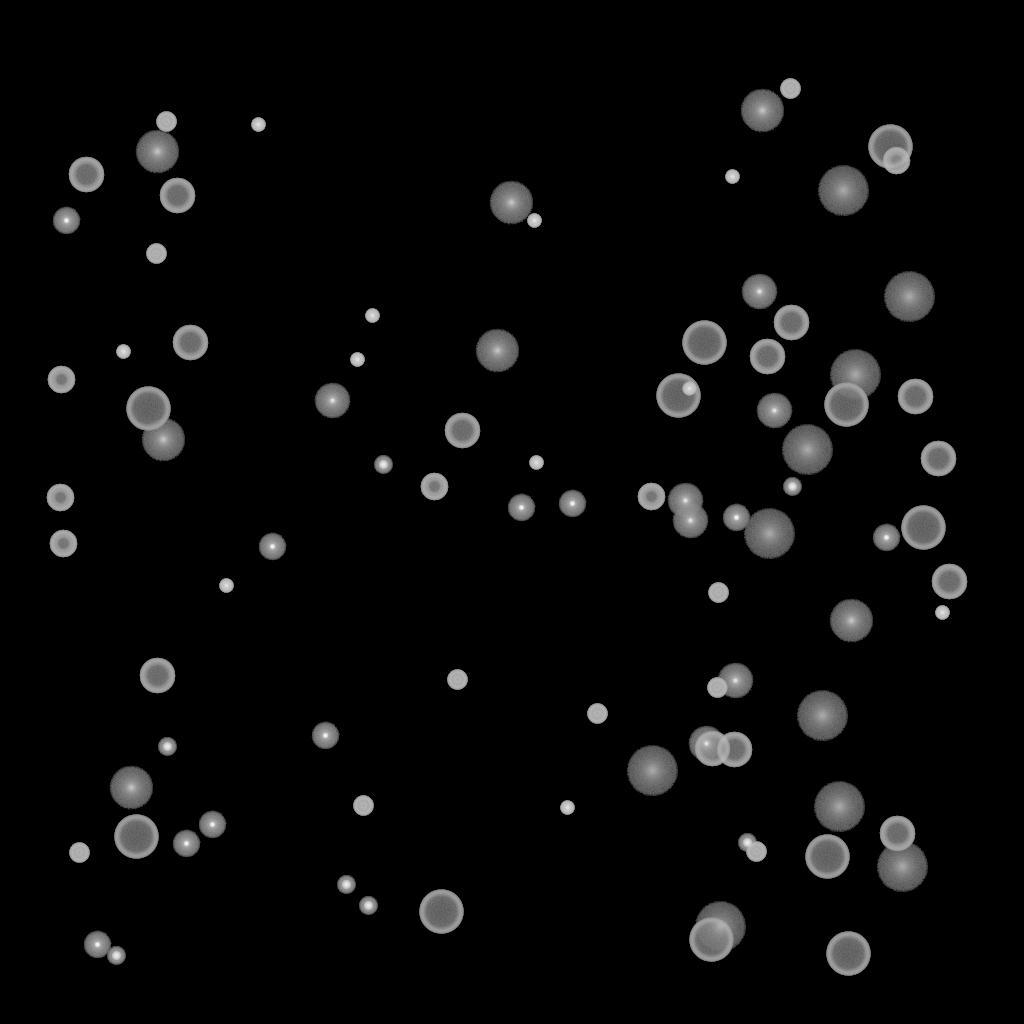depth:-10: (507, 494, 535, 522), (872, 524, 900, 552), (172, 830, 200, 858), (311, 722, 339, 750), (198, 811, 226, 839), (52, 207, 80, 235), (83, 931, 111, 959), (722, 504, 750, 532), (258, 533, 286, 561), (558, 490, 586, 518)
depth:-20: (158, 738, 176, 756), (359, 897, 377, 915), (783, 478, 801, 496), (107, 947, 125, 965), (337, 876, 355, 894), (738, 834, 756, 852), (374, 456, 392, 474)
depth:-30: (251, 118, 265, 132), (725, 170, 739, 184), (682, 382, 696, 396), (116, 345, 130, 359), (350, 353, 364, 367), (560, 801, 574, 815), (365, 309, 379, 323), (527, 214, 541, 228), (529, 456, 543, 470), (219, 579, 233, 593), (935, 606, 949, 620)
depth:-40: (353, 796, 373, 816), (146, 244, 166, 264), (156, 112, 176, 132), (780, 79, 800, 99), (707, 678, 727, 698), (746, 842, 766, 862), (708, 583, 728, 603), (69, 843, 89, 863), (587, 704, 607, 724), (447, 670, 467, 690)
depth:-50: (882, 147, 910, 175), (47, 366, 75, 394), (637, 483, 665, 511), (420, 473, 448, 501), (46, 484, 74, 512), (49, 530, 77, 558)
depth:-60: (444, 413, 480, 449), (931, 564, 967, 600), (139, 658, 175, 694), (716, 732, 752, 768), (879, 816, 915, 852), (694, 731, 730, 767), (773, 305, 809, 341), (897, 379, 933, 415), (159, 178, 195, 214), (920, 441, 956, 477), (172, 325, 208, 361), (749, 339, 785, 375), (68, 157, 104, 193)
depth:-70: (826, 932, 870, 976), (126, 387, 170, 431), (805, 835, 849, 879), (868, 125, 912, 169), (656, 374, 700, 418), (682, 321, 726, 365), (901, 506, 945, 550), (114, 815, 158, 859), (689, 918, 733, 962), (419, 890, 463, 934), (824, 383, 868, 427)
depth:0: (667, 483, 703, 519), (672, 503, 708, 539), (741, 274, 777, 310), (314, 383, 350, 419), (688, 726, 724, 762), (756, 393, 792, 429), (717, 663, 753, 699)
depth:10: (489, 181, 533, 225), (740, 89, 784, 133), (475, 329, 519, 373), (141, 418, 185, 462), (109, 766, 153, 810), (829, 599, 873, 643), (135, 130, 179, 174)
depth:20: (829, 350, 881, 400), (817, 166, 869, 216), (781, 425, 833, 475), (883, 272, 935, 322), (813, 782, 865, 832), (626, 746, 678, 796), (876, 842, 928, 892), (796, 691, 848, 741), (743, 509, 795, 559), (694, 902, 746, 952)
